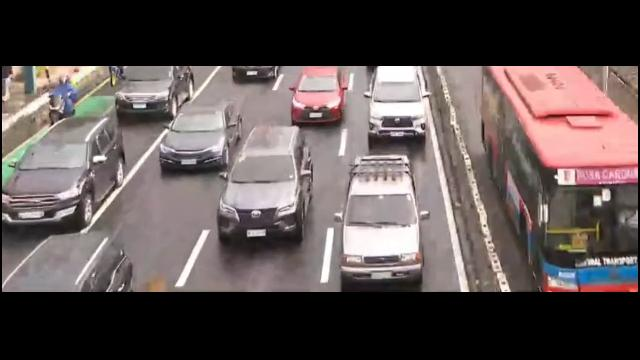bus: (478, 68, 640, 292)
car: (1, 121, 125, 228), (339, 152, 422, 283), (222, 125, 308, 242), (3, 232, 133, 294), (156, 101, 244, 168), (366, 65, 427, 142), (112, 68, 198, 122), (292, 66, 346, 126)
motorcycle: (46, 76, 74, 121)
